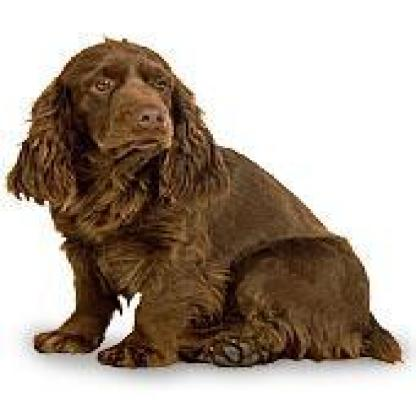Sussex_spaniel: (0, 32, 406, 370)
